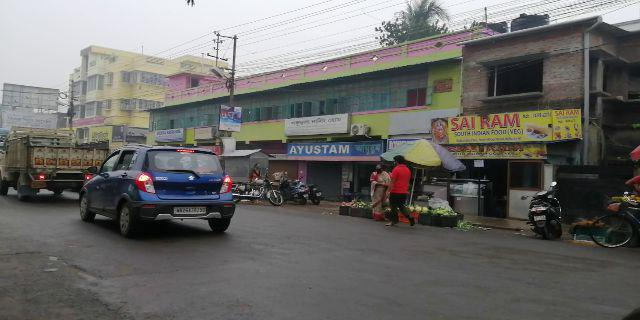Car: (81, 143, 245, 239)
Truck: (11, 125, 108, 199)
